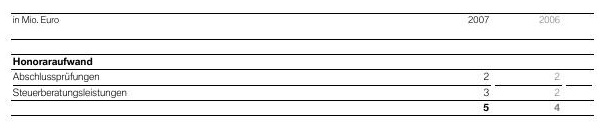table: (0, 0, 609, 134)
